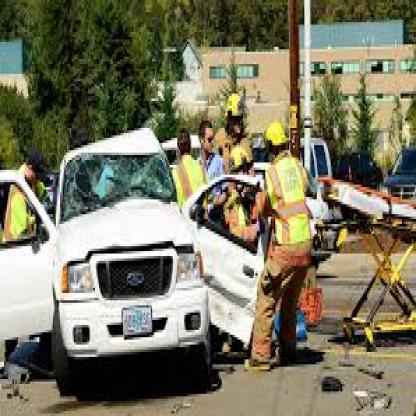accident: (0, 99, 275, 403)
